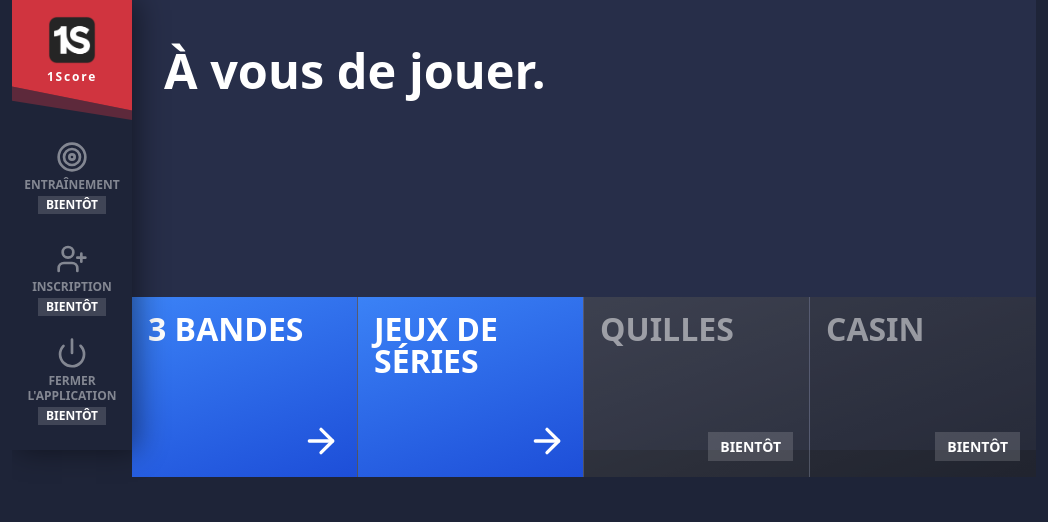
Test: HomeScreen › opens the players step straight from the 3 BANDES category
The width and height of the screenshot is (1048, 522).
Expected: the element with test id "category-3bandes" does not show "BIENTÔT"
Press the mouse on the button with test id "category-3bandes": (245, 387) [132,297,358,477]
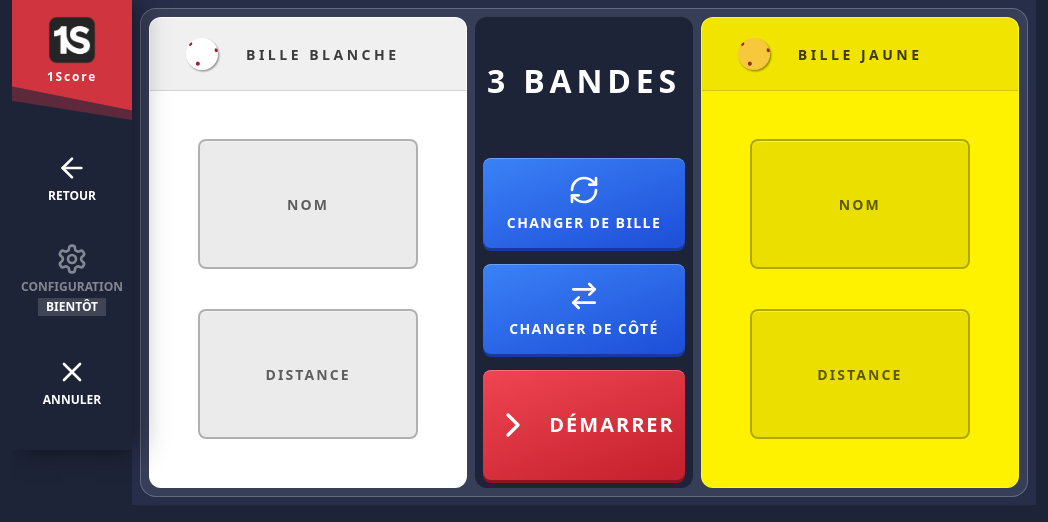
Expected: the element with test id "step-players" is shown
